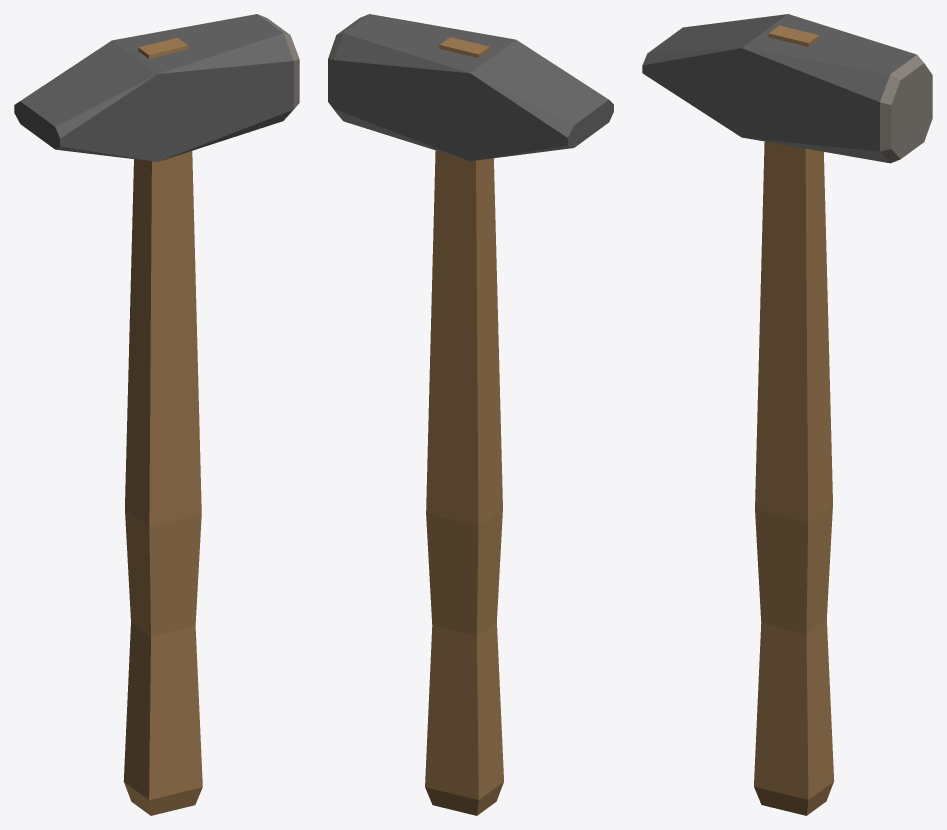
Rendered from hammer_01.fbx.
3 views of the same model, side by side, from view 1: azimuth 30°, elevation 25°; view 2: azimuth 150°, elevation 25°; view 3: azimuth 330°, elevation 25° (orthographic).
Parts seen in each view (by area): view 1: hammer_01; view 2: hammer_01; view 3: hammer_01.
Part boxes in pixels (x1,y1,x2,y2): hammer_01: (14, 14, 299, 815); hammer_01: (328, 14, 613, 815); hammer_01: (642, 14, 932, 815).
Size of the model in its own units: 25 by 74.61 by 8.21.
